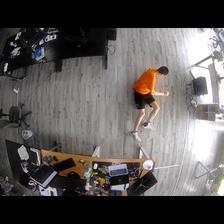fall: (132, 66, 168, 142)
